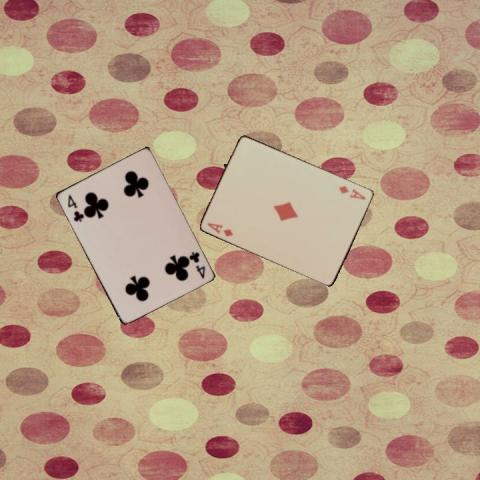4c: (64, 192, 85, 224), (185, 249, 206, 280)
Ad: (204, 220, 234, 238), (336, 183, 367, 200)
